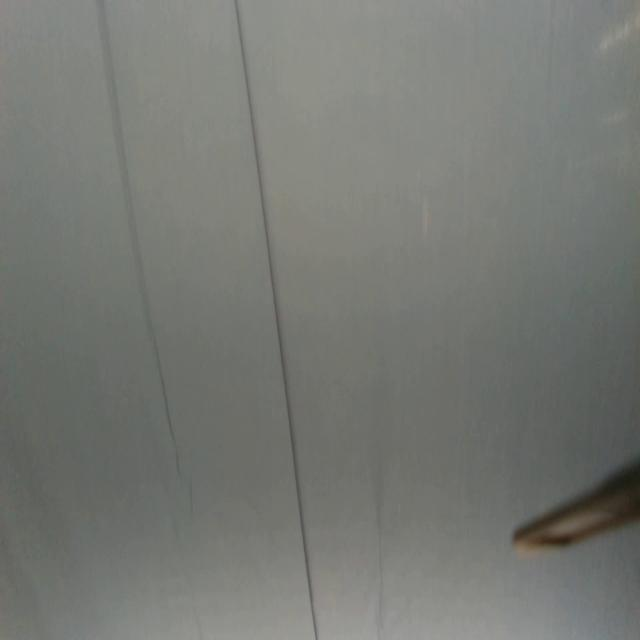crease: (237, 0, 318, 640), (94, 0, 180, 472)
